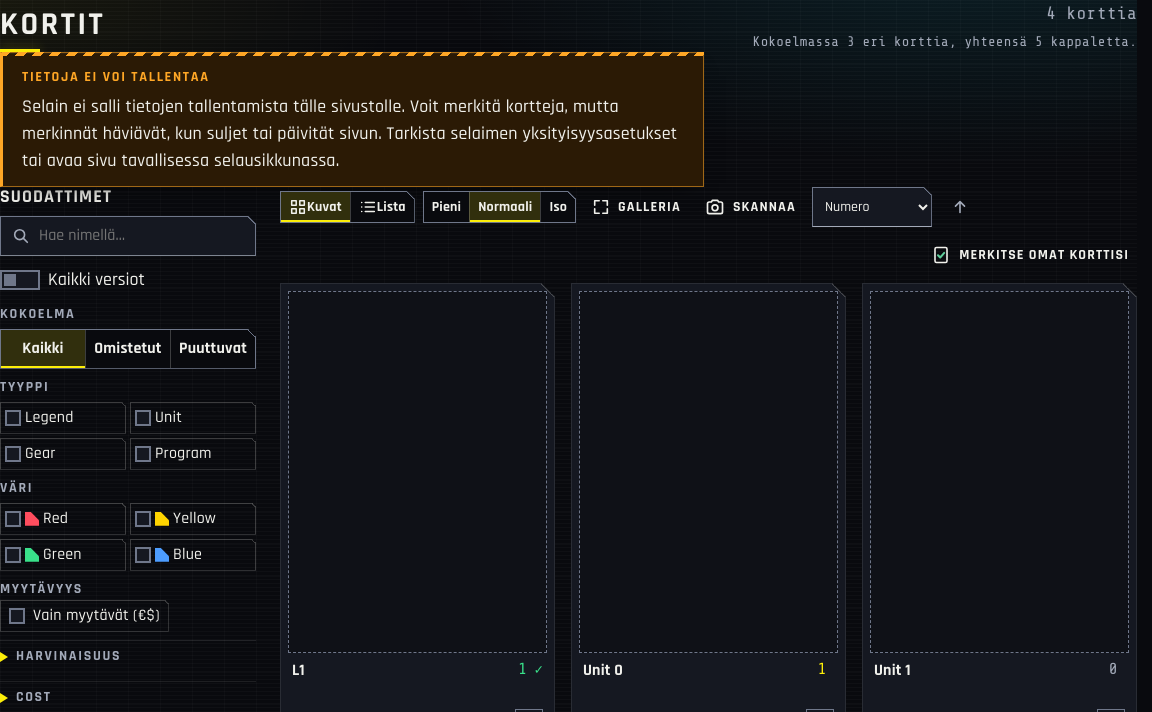
Test: Add missing to wants in the card list (T-066) › adds every shown card short of a playset up to the playset and tells the count
This screenshot has width=1152, height=712.
Click the button "Merkitse omat korttisi" at (1030, 255), box 923,235 -> 1137,275
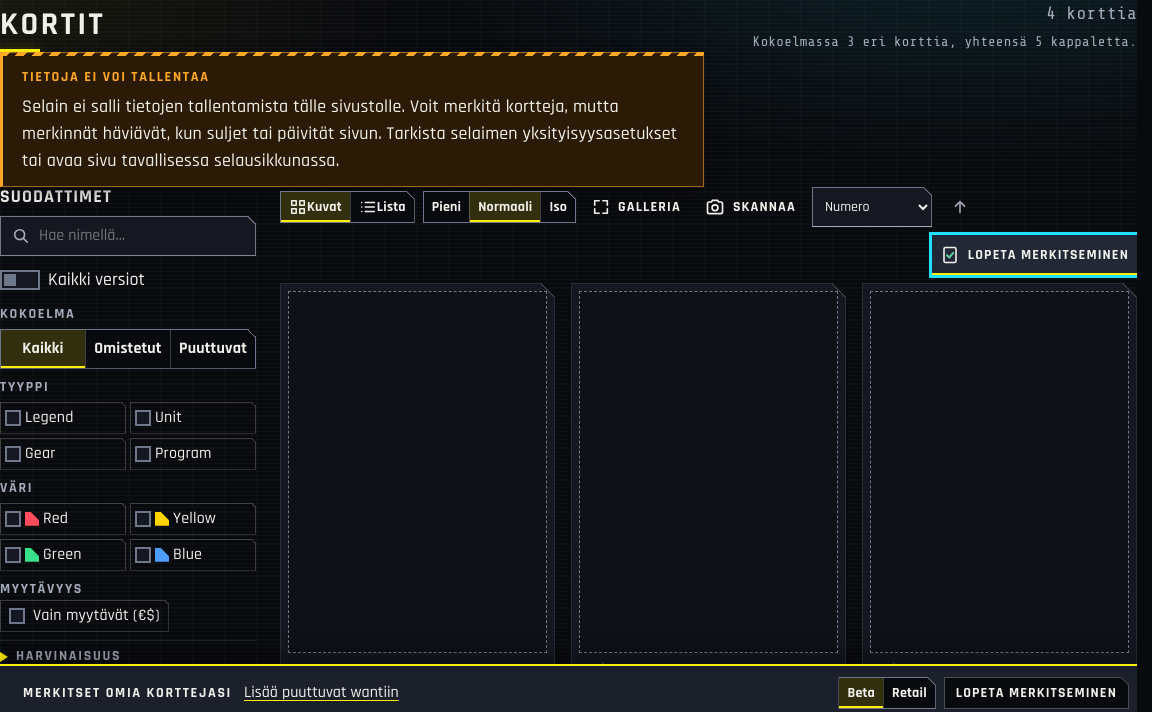
Click the button "Lisää puuttuvat wantiin" at (321, 693), box 244,677 -> 399,709
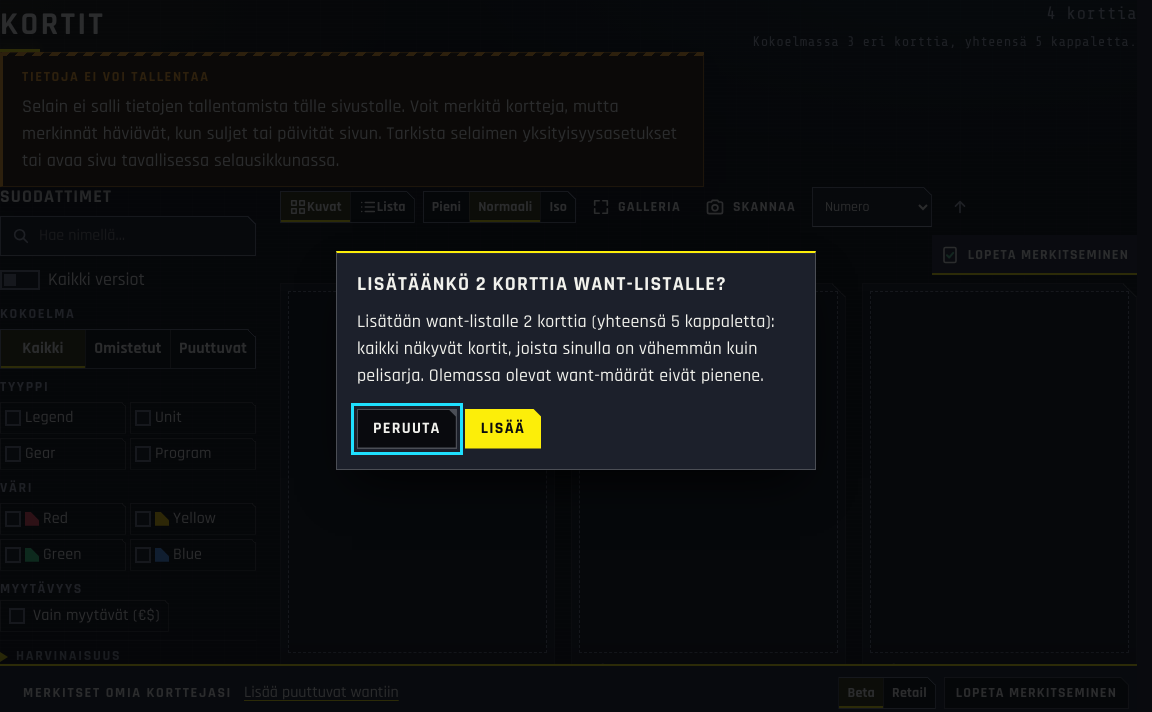
Click the button "Lisää" at (503, 428), box 465,408 -> 541,448
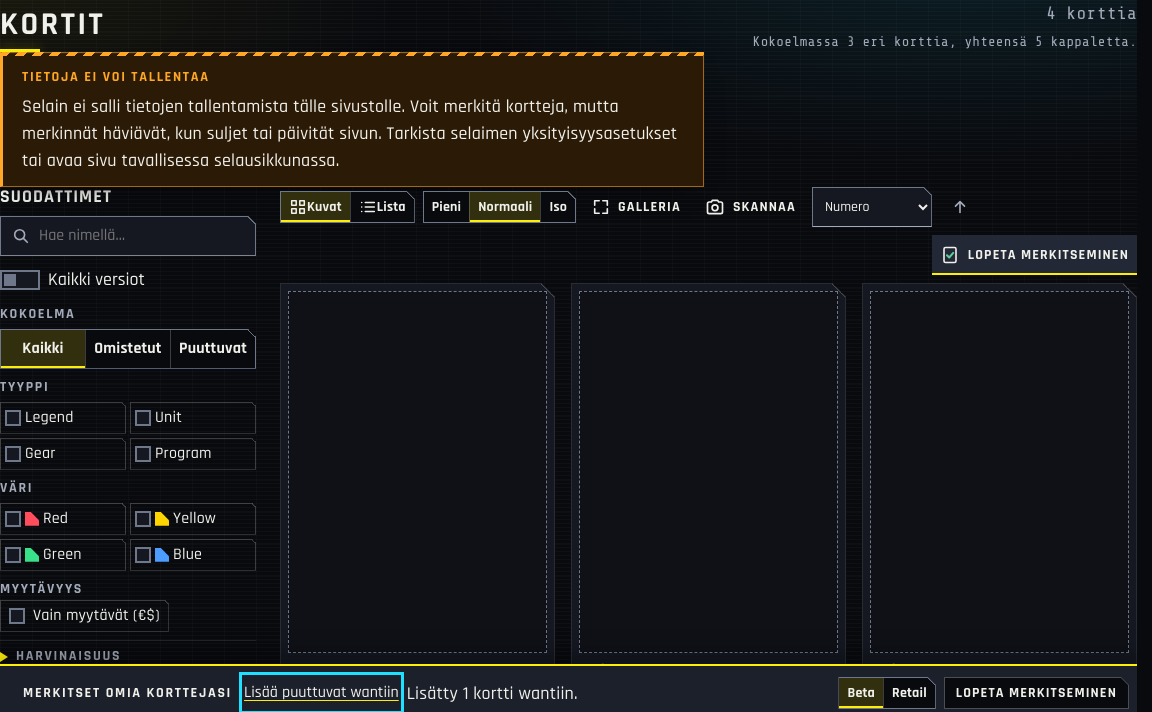
Click the button "Lisää puuttuvat wantiin" at (321, 693), box 244,677 -> 399,709
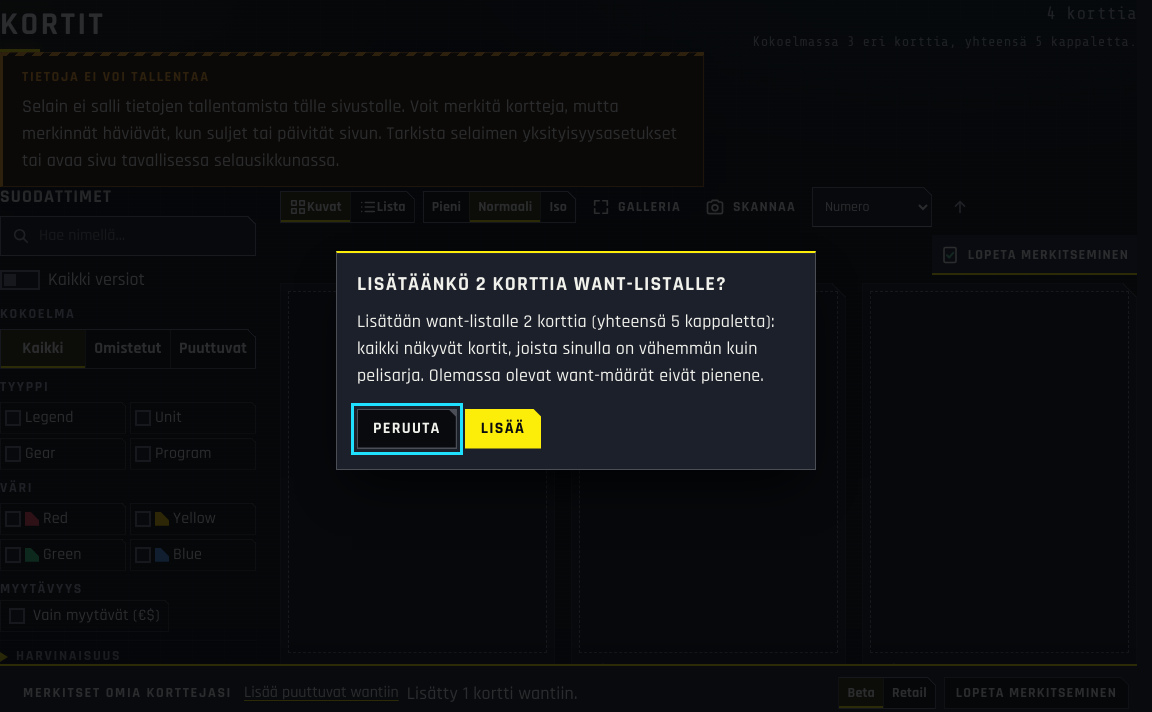
Click the button "Lisää" at (503, 428), box 465,408 -> 541,448
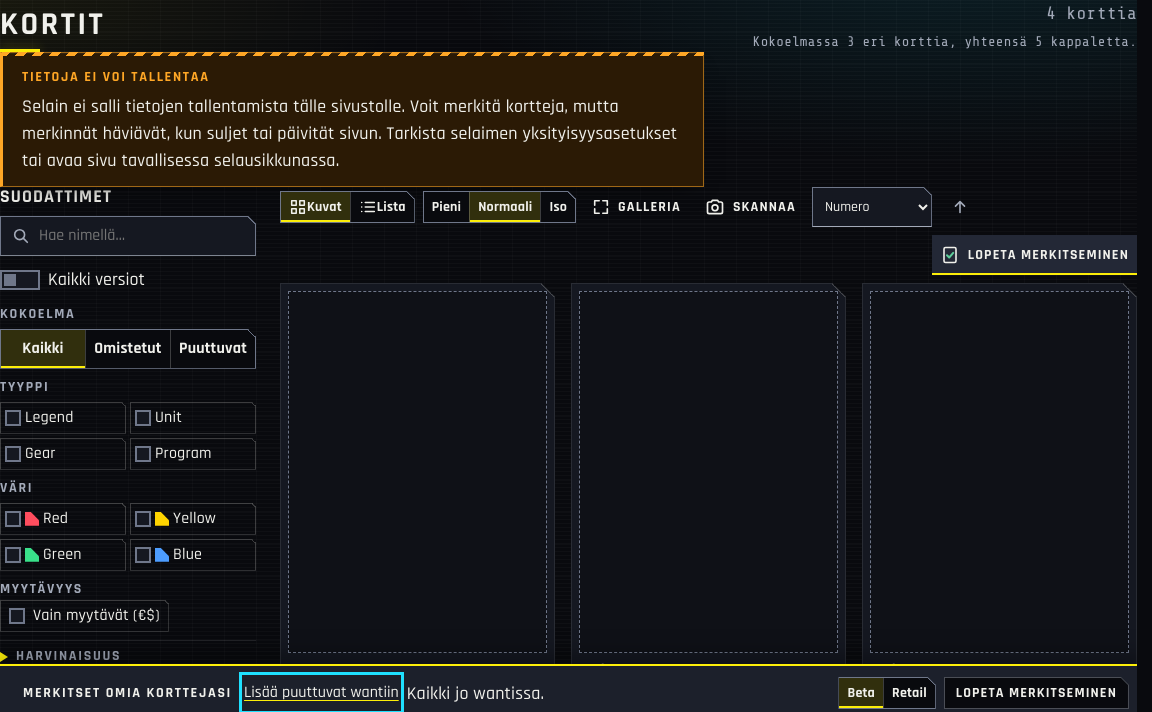
Check: the text "Kaikki jo wantissa." is shown, box 407,680 -> 544,706
